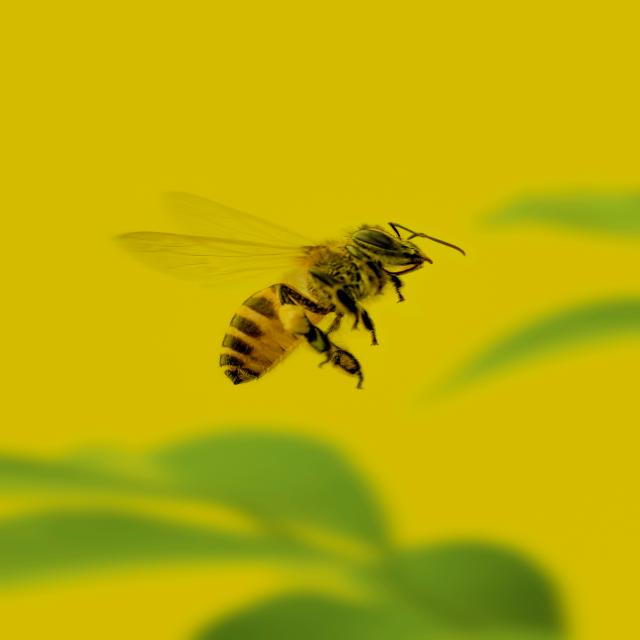bees: (111, 188, 472, 392)
